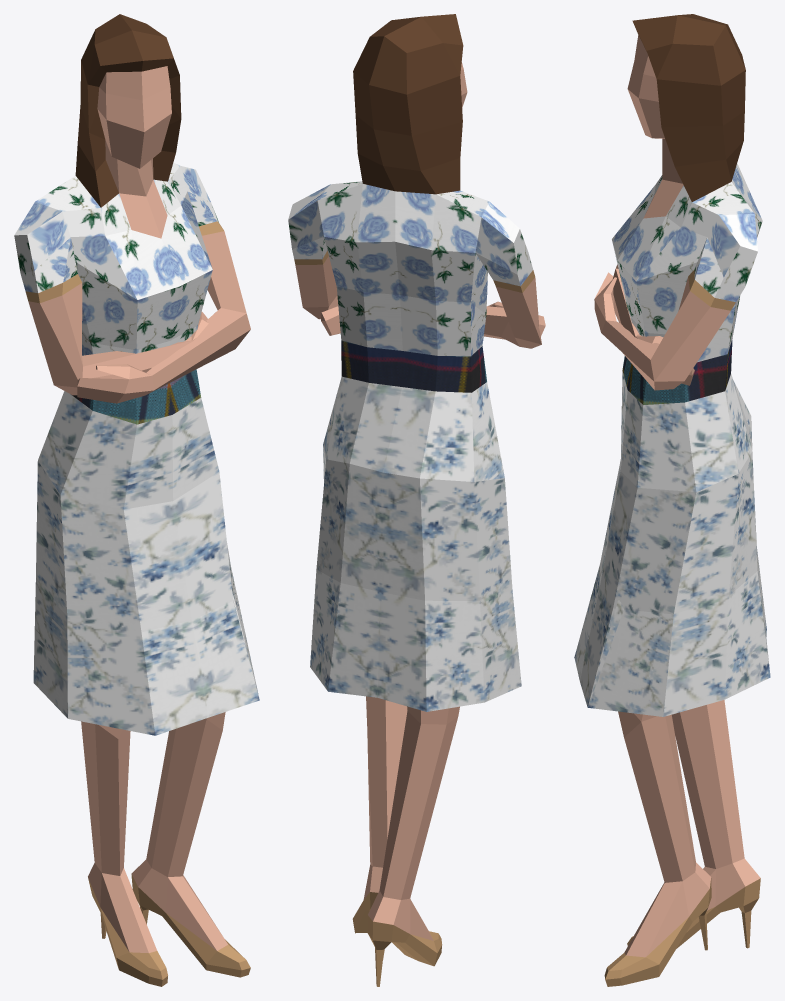
Rendered from SpringWomanC.002.glb.
3 views of the same model, side by side, from view 1: azimuth 30°, elevation 25°; view 2: azimuth 150°, elevation 25°; view 3: azimuth 270°, elevation 25° (orthographic).
Visible parts, largest first — view 1: SpringWomanC.002; view 2: SpringWomanC.002; view 3: SpringWomanC.002.
Boxes of the visible parts, x1,y1,x2,y2 form: SpringWomanC.002: (14,14,259,986); SpringWomanC.002: (288,14,545,986); SpringWomanC.002: (574,14,770,986).
Size of the model in its own units: 0.4133 by 1.7 by 0.3239.
1 material, 1 textured.
